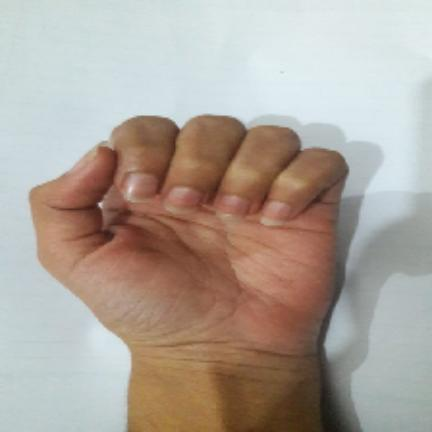Nail: (122, 172, 159, 203), (164, 186, 202, 215), (216, 195, 251, 221), (68, 143, 99, 172), (260, 201, 291, 226)
